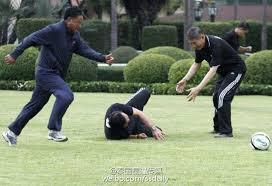Fall-Detected: (95, 80, 169, 142)
